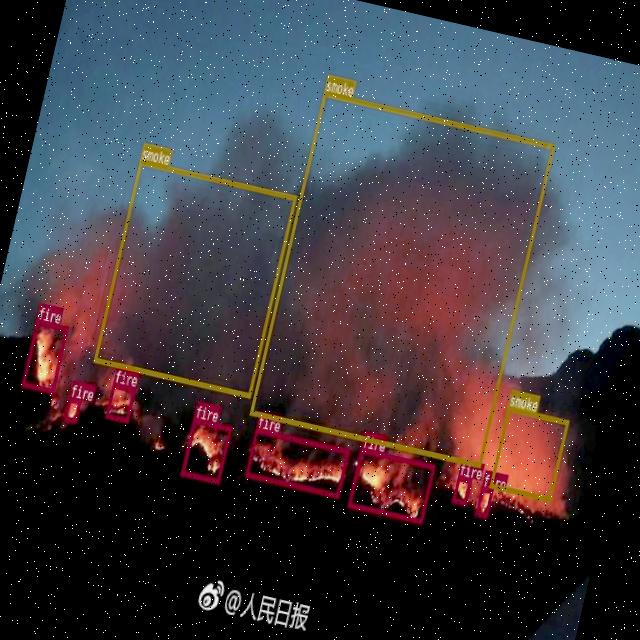fire: (243, 427, 349, 498), (347, 447, 434, 522), (21, 319, 68, 392), (180, 417, 231, 483), (104, 382, 136, 422), (451, 474, 472, 504), (474, 486, 492, 516), (62, 396, 80, 421)
smoke: (248, 90, 554, 468), (92, 158, 296, 398), (488, 405, 568, 501)
